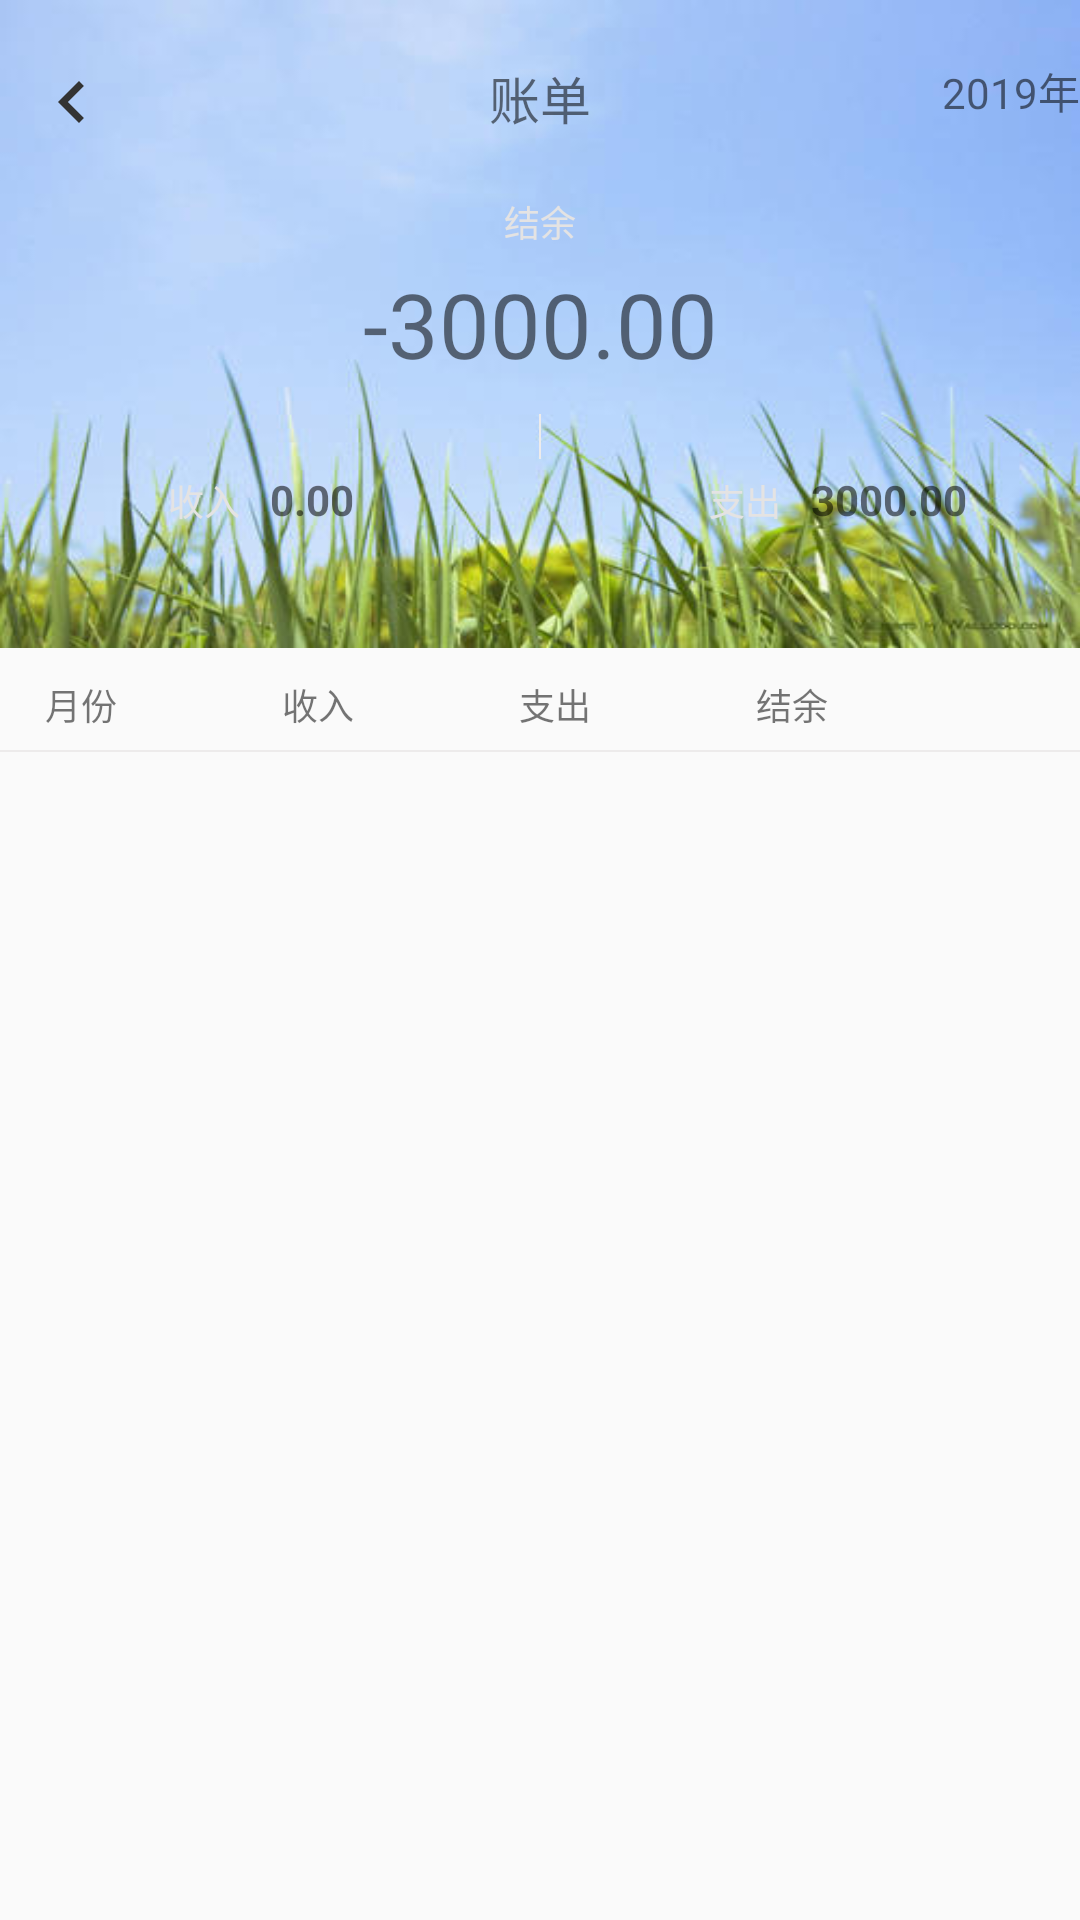

Icons on this 1080px×1920px Android screen, each with its box as [x1=x1, y1=y1, x2=x2, y2=y2]:
back: [x1=58, y1=81, x2=84, y2=123]
